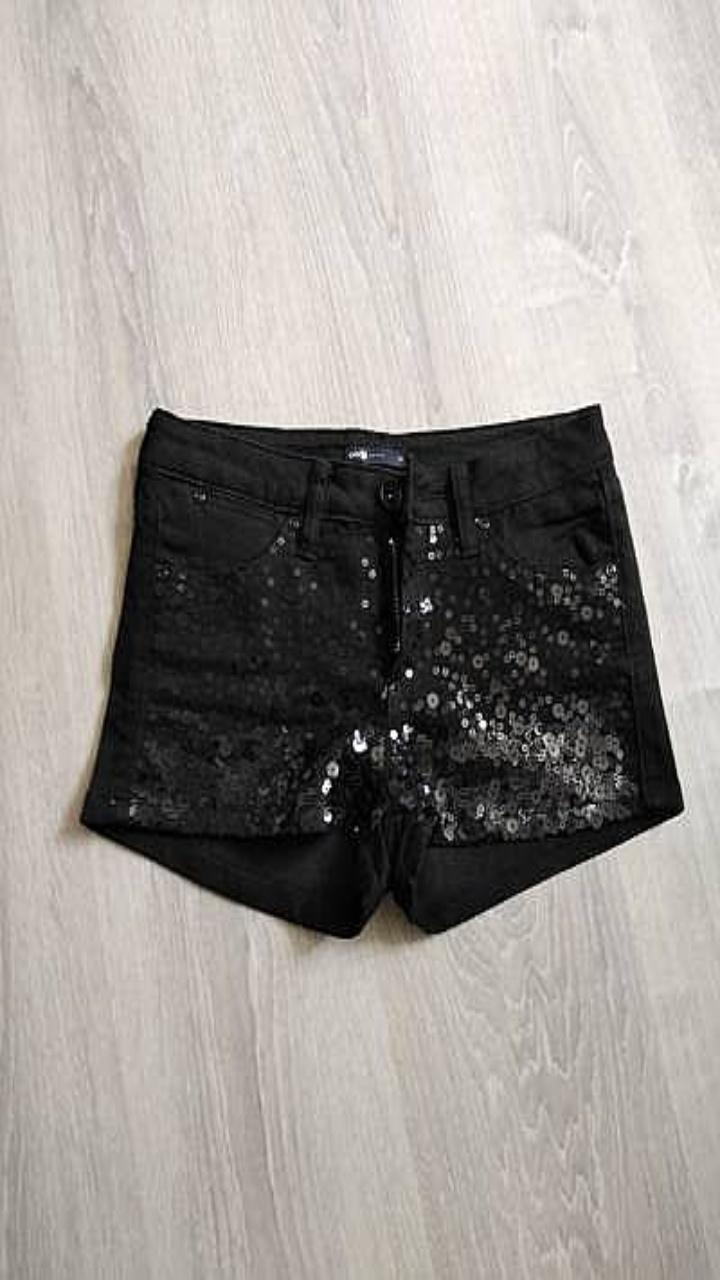Shorts: (80, 404, 683, 936)
